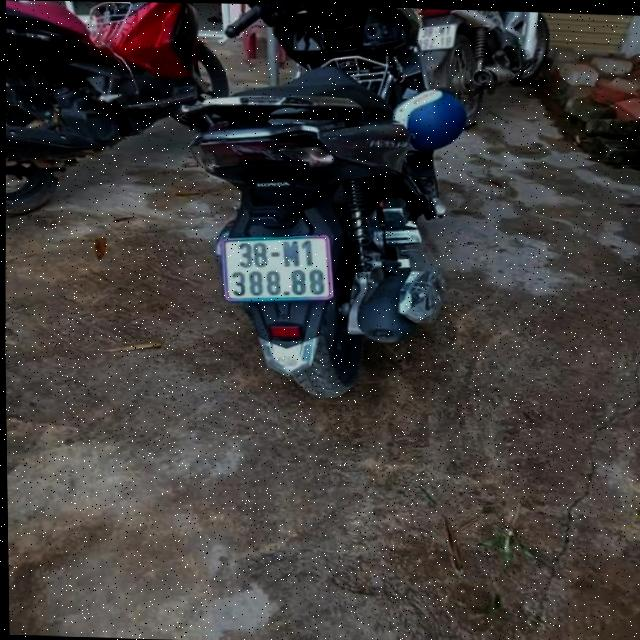motorcycle: (177, 3, 456, 405), (1, 0, 230, 239), (414, 8, 568, 131)
plate: (214, 229, 339, 306), (410, 15, 466, 54)
